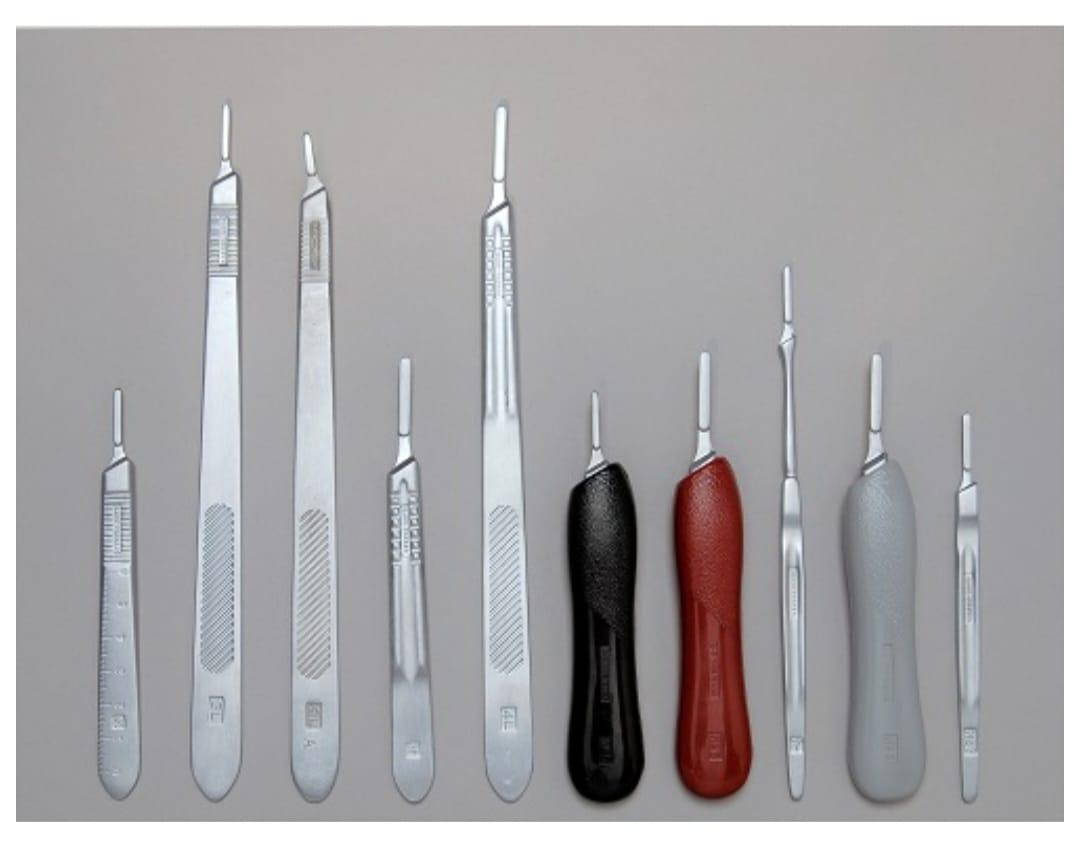Knife handle: (466, 95, 546, 810), (182, 98, 255, 810), (279, 124, 354, 806), (373, 344, 446, 810), (82, 375, 157, 811), (936, 403, 1001, 814)
